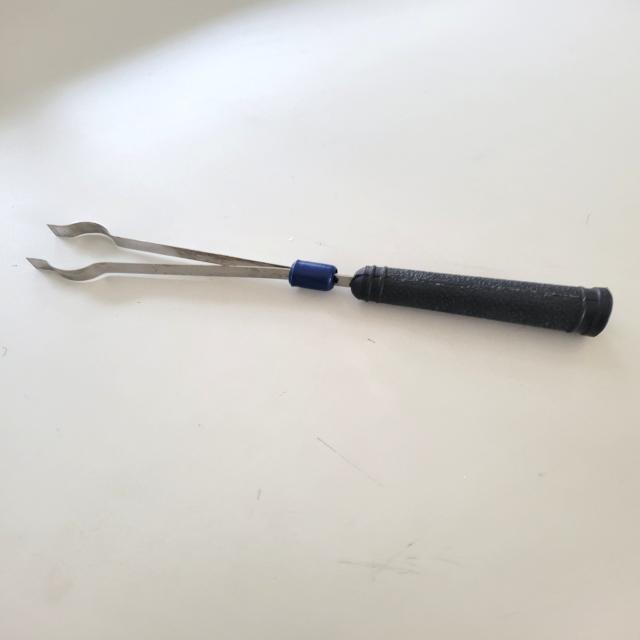TestTube_Holder: (14, 200, 621, 351)
